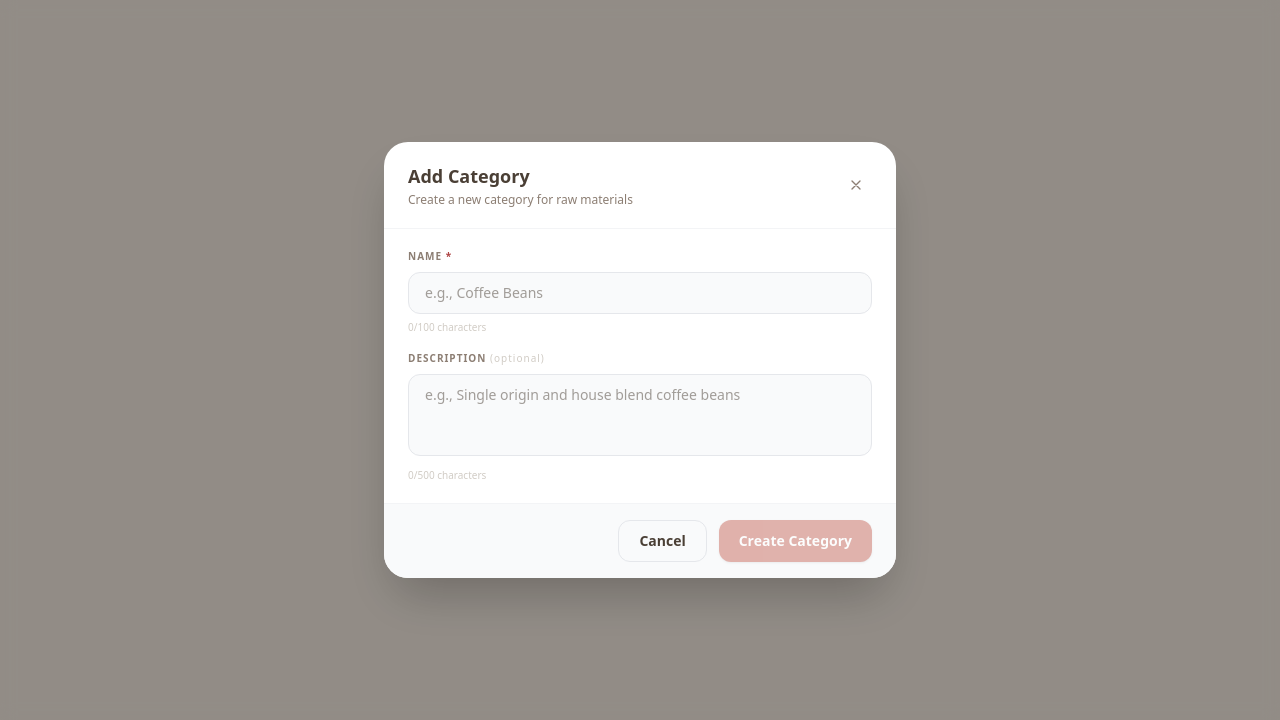
CategoryFormModal.vue (Component Testing) › Error Display › [Happy Path] counter description ter-update
In the text box with placeholder "e.g., Single origin and house blend coffee beans": (640, 415) [408,374,872,456], type "Hello world"
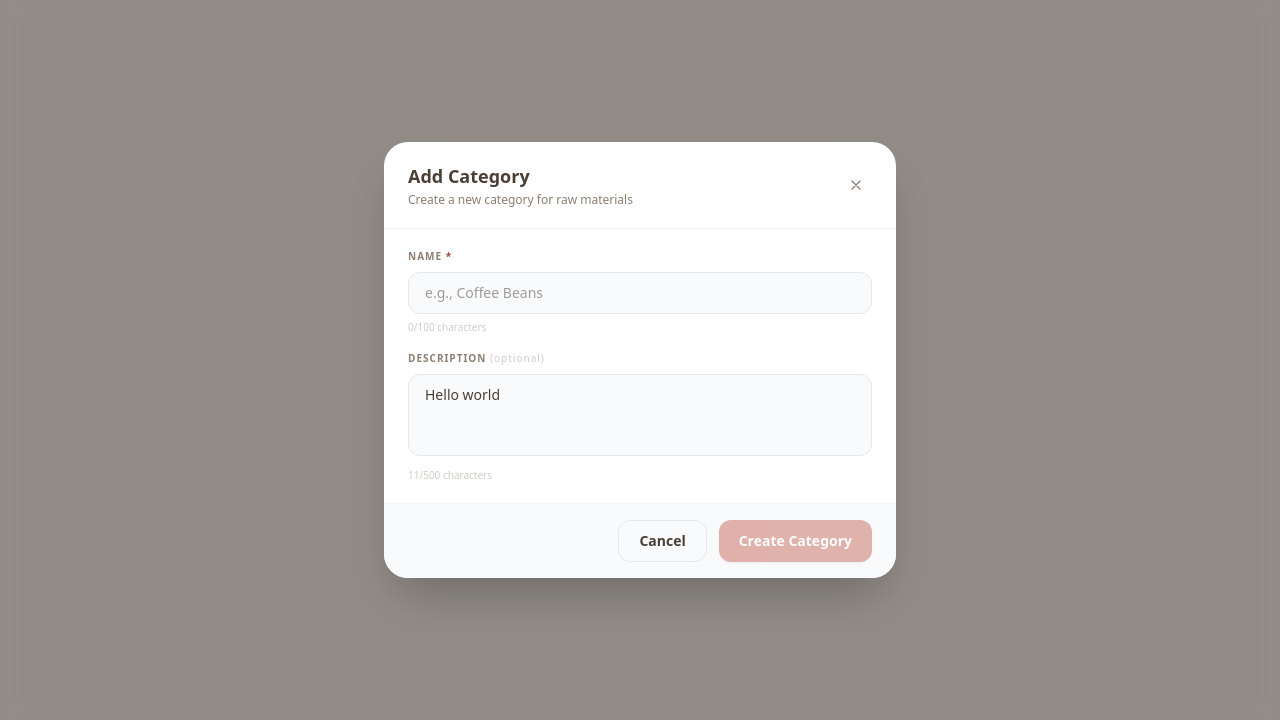
Now the text "11/500 characters" is shown, box [408,468,492,482]
